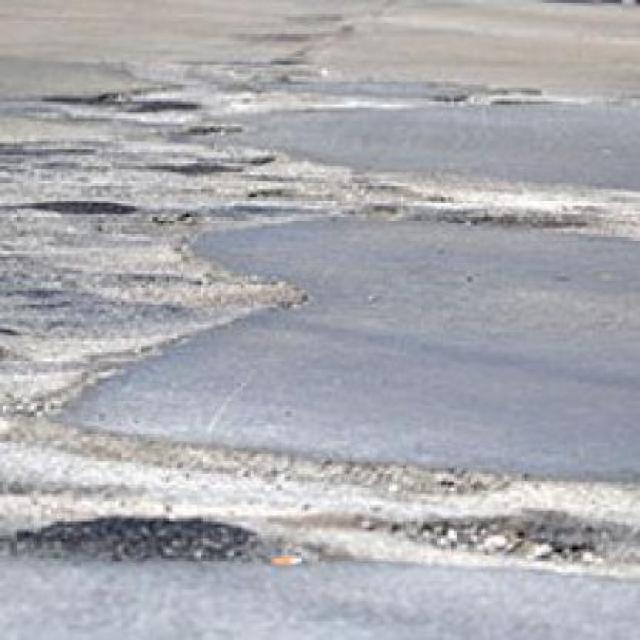pothole: (0, 507, 318, 564)
